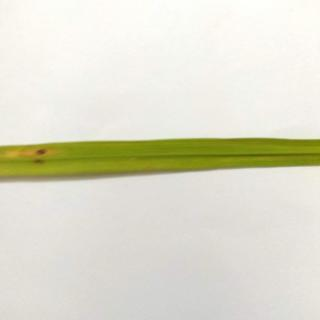bercak-Cokelat: (30, 144, 52, 176)
